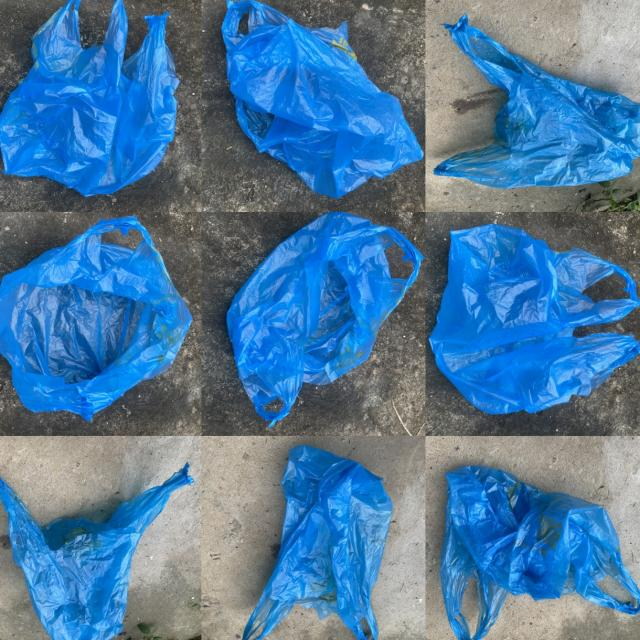plastik: (227, 212, 424, 426), (430, 224, 640, 413), (222, 0, 422, 198), (0, 216, 191, 421), (434, 15, 640, 189), (0, 0, 178, 197), (441, 466, 640, 640), (0, 464, 193, 640), (242, 446, 392, 640)
